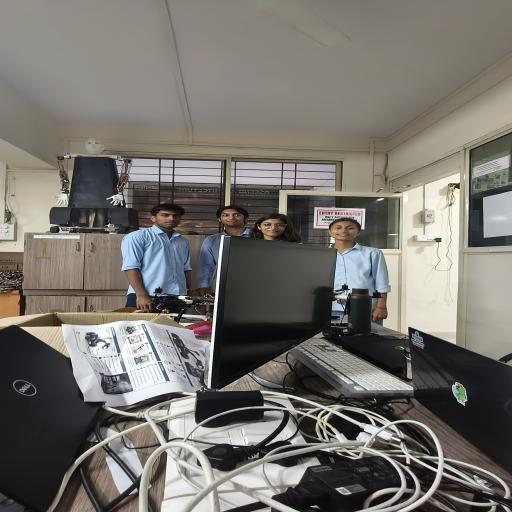survivor: (121, 203, 194, 312), (326, 218, 391, 326), (197, 205, 252, 298), (248, 213, 304, 244)
